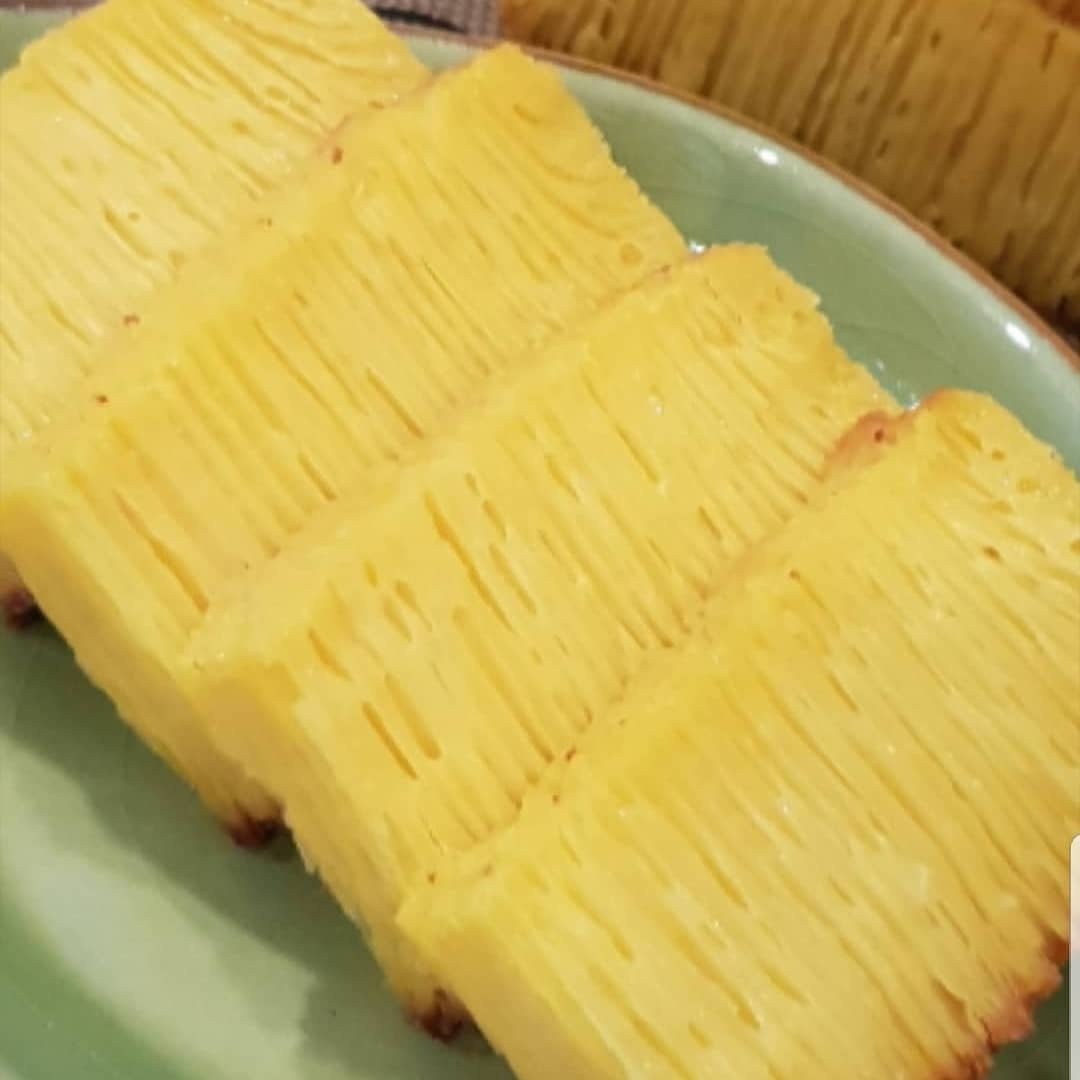bika_ambon: (221, 244, 975, 1025), (425, 387, 1076, 1080)
